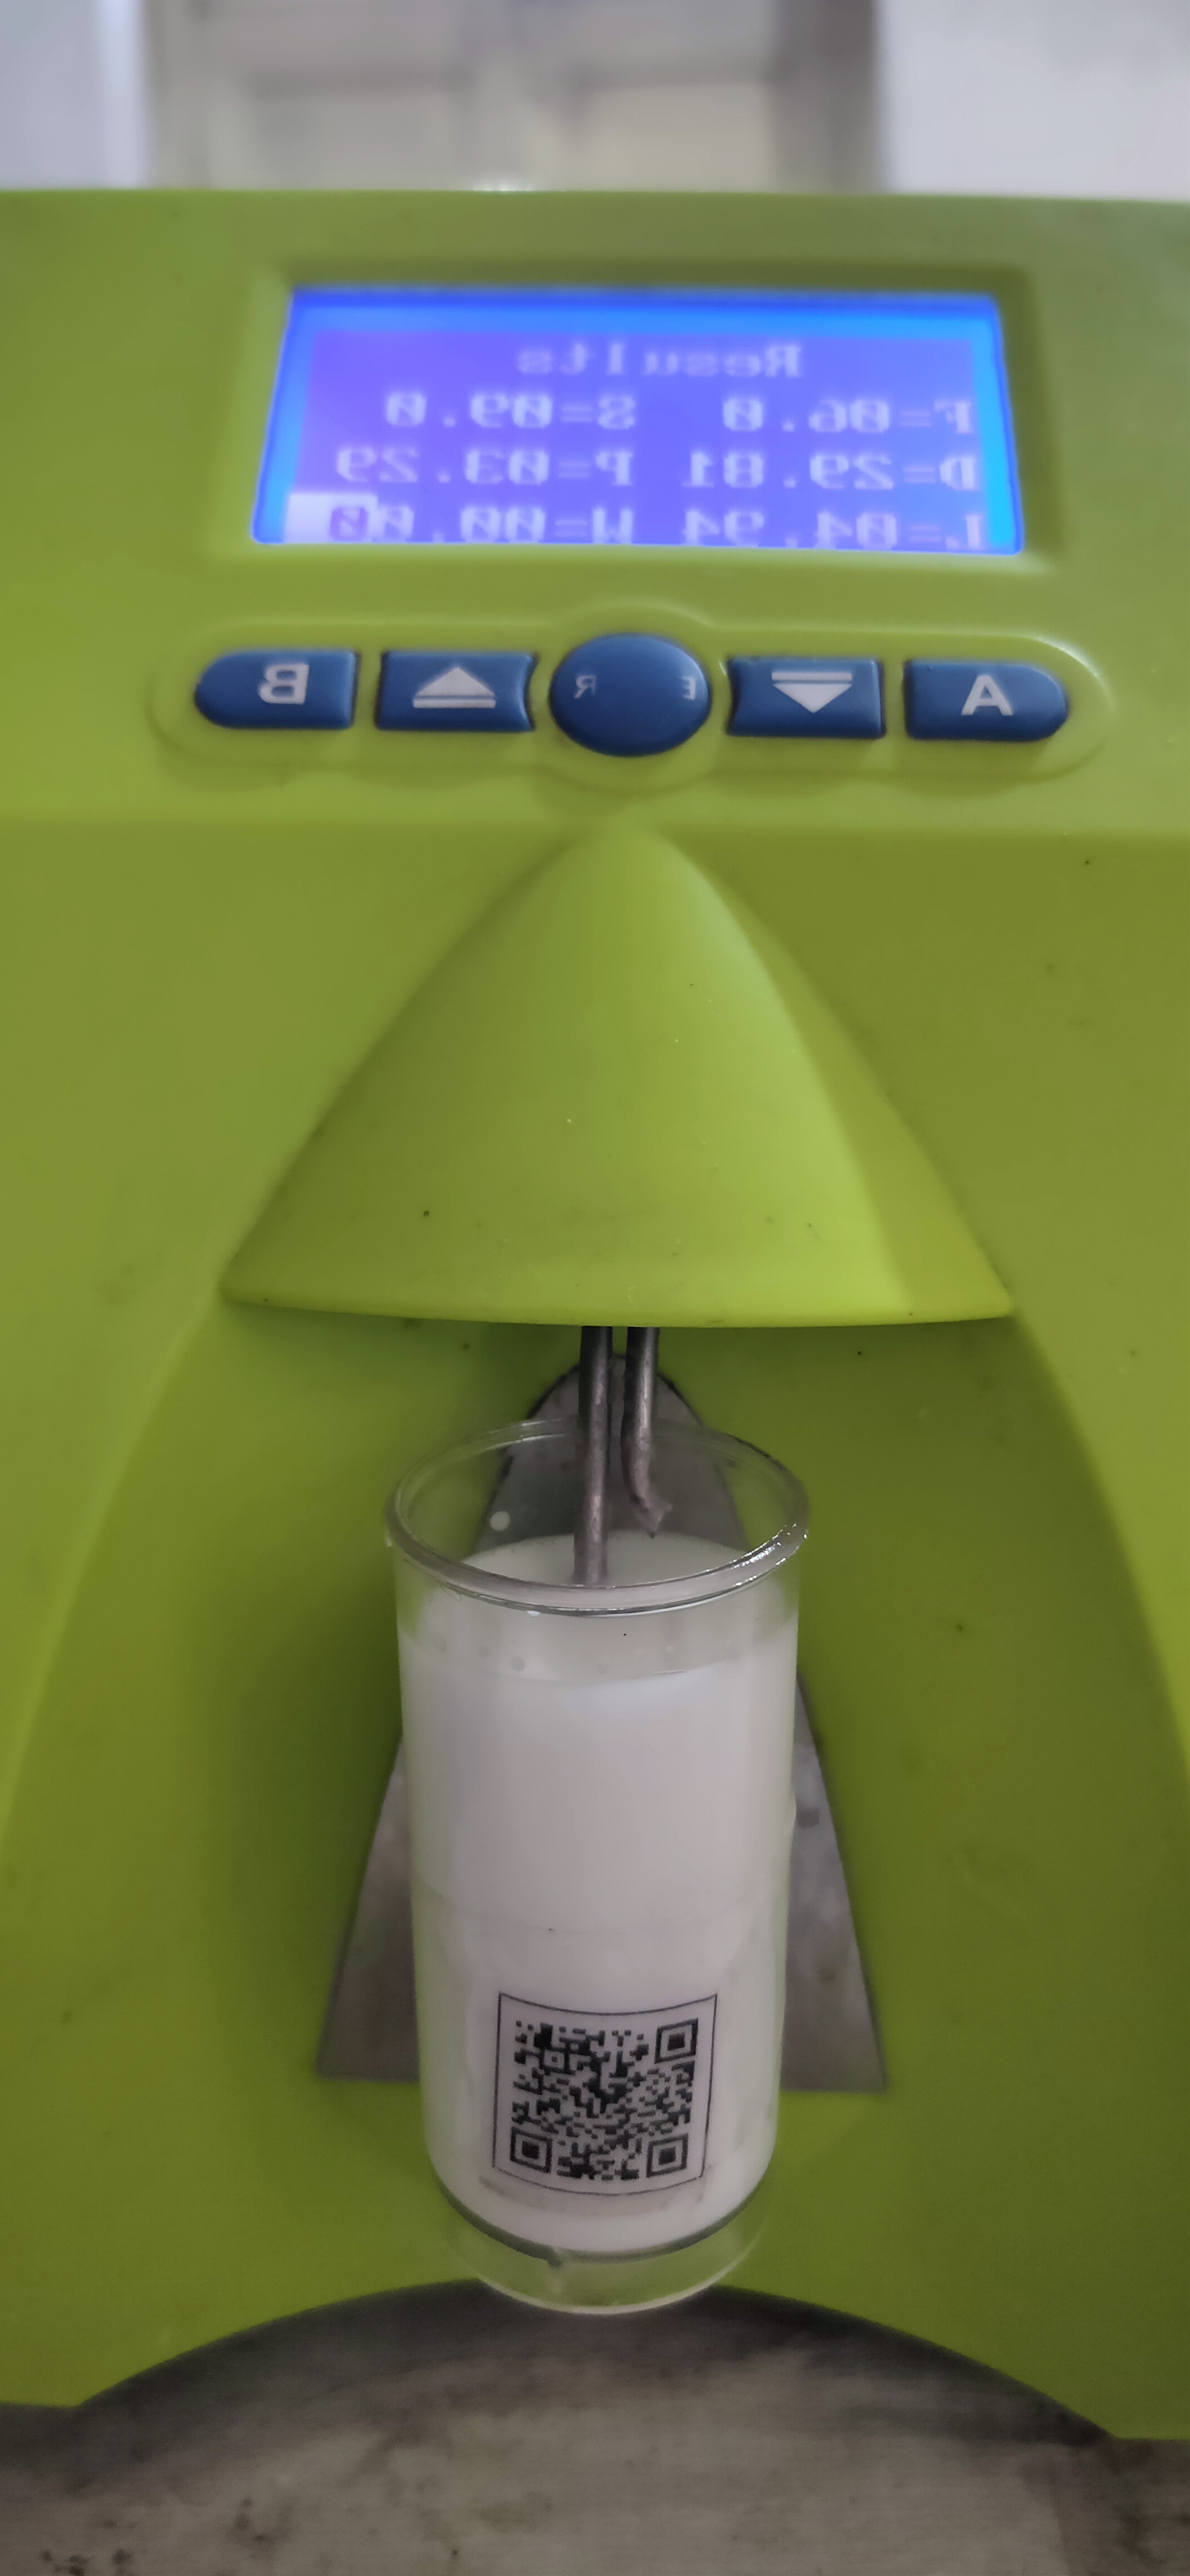lcd: (237, 278, 1049, 577)
qr: (485, 1983, 728, 2218)
